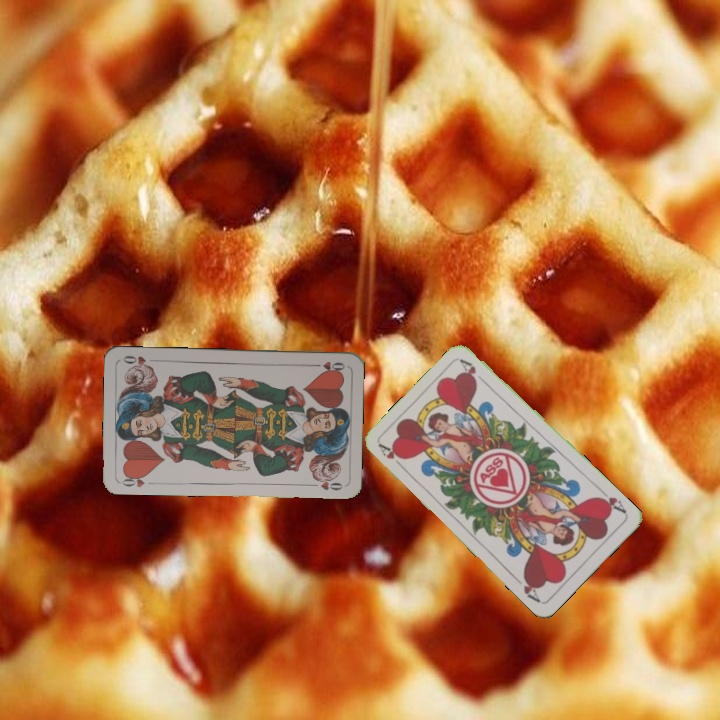HA: (592, 486, 629, 516), (375, 440, 408, 473)
HO: (307, 357, 347, 374), (116, 470, 150, 490)
